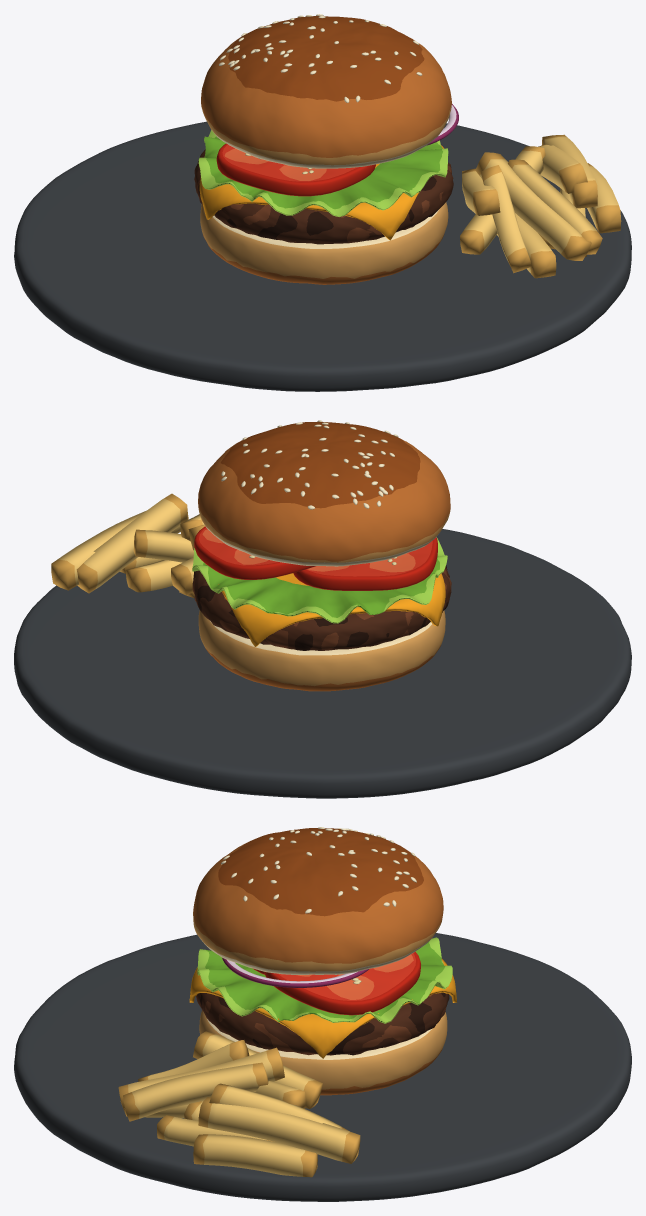
Rendered from burger-signature.glb.
3 renders of one model, top to bottom at view 1: azimuth 30°, elevation 25°; view 2: azimuth 150°, elevation 25°; view 3: azimuth 270°, elevation 25°, orthographic.
Visible parts, largest first — view 1: ardoise, brioche_croute, brioche_croute_foncee, frites, brioche_flanc, frites_dorees, salade, boeuf_saisi, cheddar_fondu, tomate_peau, salade_claire, brioche_mie (+5 smaller); view 2: ardoise, brioche_croute, brioche_croute_foncee, brioche_flanc, frites, salade, boeuf_saisi, tomate_peau, frites_dorees, cheddar_fondu, brioche_mie, tomate_chair (+5 smaller); view 3: ardoise, frites, brioche_croute, brioche_croute_foncee, brioche_flanc, frites_dorees, boeuf_saisi, salade, cheddar_fondu, tomate_peau, salade_claire, brioche_mie (+6 smaller).
Part boxes in pixels (x1,y1,x2,y2): ardoise: (14,121,631,391); brioche_croute: (201,37,451,284); brioche_croute_foncee: (228,16,424,101); frites: (462,136,618,273); brioche_flanc: (200,103,451,278); frites_dorees: (460,134,621,278); salade: (204,136,442,209); boeuf_saisi: (194,149,453,243); cheddar_fondu: (199,145,443,240); tomate_peau: (216,143,375,195); salade_claire: (198,130,448,216); brioche_mie: (212,130,439,248); ardoise: (14,529,631,798); brioche_croute: (198,438,450,691); brioche_croute_foncee: (220,422,420,508); brioche_flanc: (198,507,450,686); frites: (58,498,204,590); salade: (203,556,439,617); boeuf_saisi: (193,567,451,650); tomate_peau: (194,526,437,590); frites_dorees: (51,493,204,598); cheddar_fondu: (205,564,445,646); brioche_mie: (205,525,439,655); tomate_chair: (199,528,432,590); ardoise: (14,933,631,1201); frites: (128,1034,349,1176); brioche_croute: (193,840,443,1095); brioche_croute_foncee: (218,828,423,916); brioche_flanc: (193,912,447,1089); frites_dorees: (118,1031,360,1177); boeuf_saisi: (196,993,449,1055); salade: (205,942,445,1022); cheddar_fondu: (189,958,456,1058); tomate_peau: (254,951,420,1014); salade_claire: (197,937,452,1023); brioche_mie: (199,936,436,1059).
Size of the model in its own units: 0.26 by 0.1052 by 0.261.
